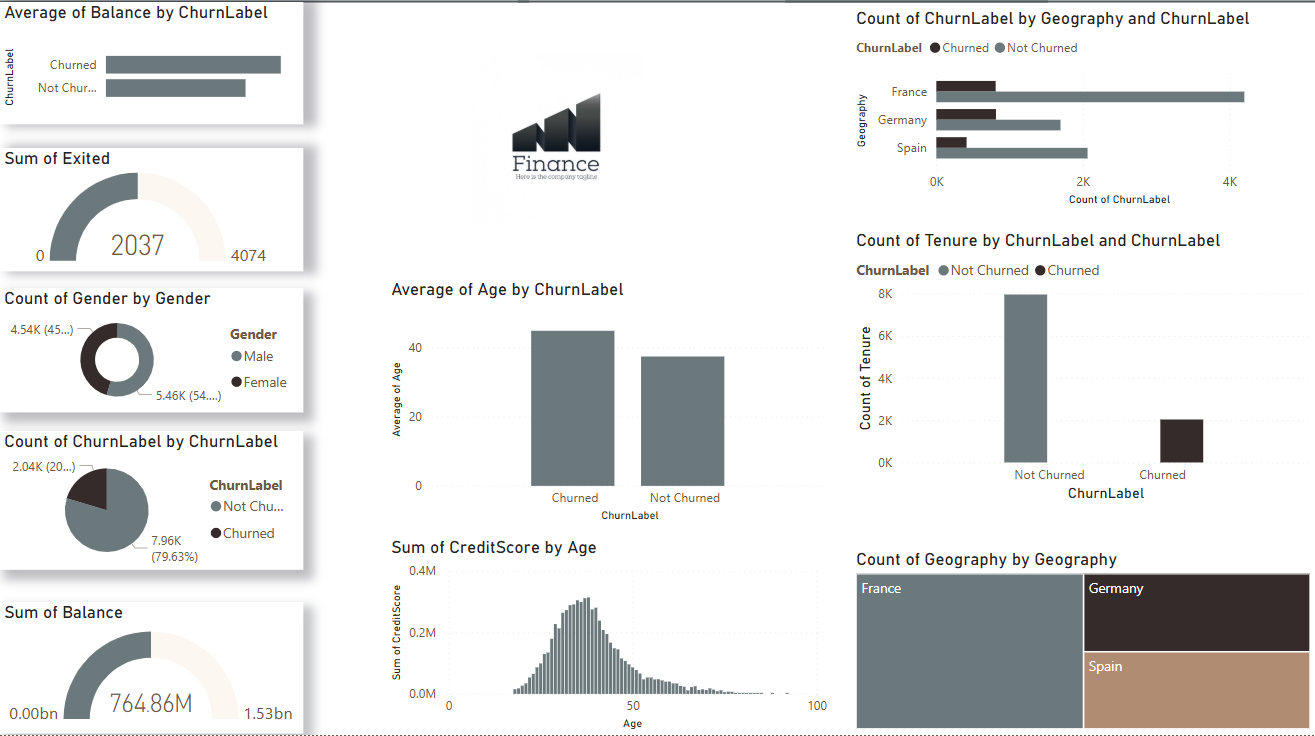

What the dashboard file says about the page in this screenshot:
{"tool":"powerbi","page":{"name":"Page 1","canvas":[1280,720],"ordinal":0},"visuals":[{"type":"clusteredColumnChart","fields":{"Category":["bank.Age"],"Y":["Sum(bank.CreditScore)"]},"box":[376.4,527.2,434.8,191.6],"z":0},{"type":"shape","box":[0,0,515.5,12.6],"z":1000},{"type":"shape","box":[504.8,0,515.5,12.6],"z":2000},{"type":"shape","box":[764.5,0,515.5,12.6],"z":3000},{"type":"donutChart","fields":{"Category":["bank.Gender"],"Y":["CountNonNull(bank.Gender)"]},"box":[0,285,295.7,120.6],"z":4000},{"type":"pieChart","fields":{"Category":["bank.ChurnLabel"],"Y":["CountNonNull(bank.ChurnLabel)"]},"box":[0,424.1,295.7,135.2],"z":5000},{"type":"gauge","fields":{"Y":["Sum(bank.Balance)"]},"box":[0,590.4,295.7,128.4],"z":6000},{"type":"lineStackedColumnComboChart","fields":{"Category":["bank.ChurnLabel"],"Y":["Avg(bank.Age)"]},"box":[376.4,276.2,434.8,240.2],"z":7000},{"type":"clusteredBarChart","fields":{"Category":["bank.ChurnLabel"],"Y":["Avg(bank.Balance)"]},"box":[0,6.8,295.7,118.7],"z":8000},{"type":"clusteredBarChart","fields":{"Category":["bank.Geography"],"Y":["CountNonNull(bank.ChurnLabel)"],"Series":["bank.ChurnLabel"]},"box":[828.7,12.6,451.3,196.5],"z":9000},{"type":"gauge","fields":{"Y":["Sum(bank.Exited)"]},"box":[0,148.8,295.7,119.6],"z":10000},{"type":"clusteredColumnChart","fields":{"Category":["bank.ChurnLabel"],"Series":["bank.ChurnLabel"],"Y":["CountNonNull(bank.Tenure)"]},"box":[828.7,228.6,451.3,269.4],"z":11000},{"type":"treemap","fields":{"Details":["bank.Geography"],"Values":["CountNonNull(bank.Geography)"]},"box":[828.7,538.8,451.3,179.9],"z":12000},{"type":"image","box":[334.6,51.6,417.3,177],"z":13000}]}

Visuals, with their boxes in screenshot pixels (x1, y1, x2, y2), scaled from the page's 1280x720 canvas onto the 1315x736 screenshot:
clusteredColumnChart - bank.Age x Sum(bank.CreditScore): locate(387, 539, 833, 735)
shape: locate(0, 0, 530, 13)
shape: locate(519, 0, 1048, 13)
shape: locate(785, 0, 1314, 13)
donutChart - bank.Gender x CountNonNull(bank.Gender): locate(0, 291, 304, 415)
pieChart - bank.ChurnLabel x CountNonNull(bank.ChurnLabel): locate(0, 434, 304, 572)
gauge - Sum(bank.Balance): locate(0, 604, 304, 735)
lineStackedColumnComboChart - bank.ChurnLabel x Avg(bank.Age): locate(387, 282, 833, 528)
clusteredBarChart - bank.ChurnLabel x Avg(bank.Balance): locate(0, 7, 304, 128)
clusteredBarChart - bank.Geography x CountNonNull(bank.ChurnLabel): locate(851, 13, 1314, 214)
gauge - Sum(bank.Exited): locate(0, 152, 304, 274)
clusteredColumnChart - bank.ChurnLabel x bank.ChurnLabel: locate(851, 234, 1314, 509)
treemap - bank.Geography x CountNonNull(bank.Geography): locate(851, 551, 1314, 735)
image: locate(344, 53, 772, 234)
